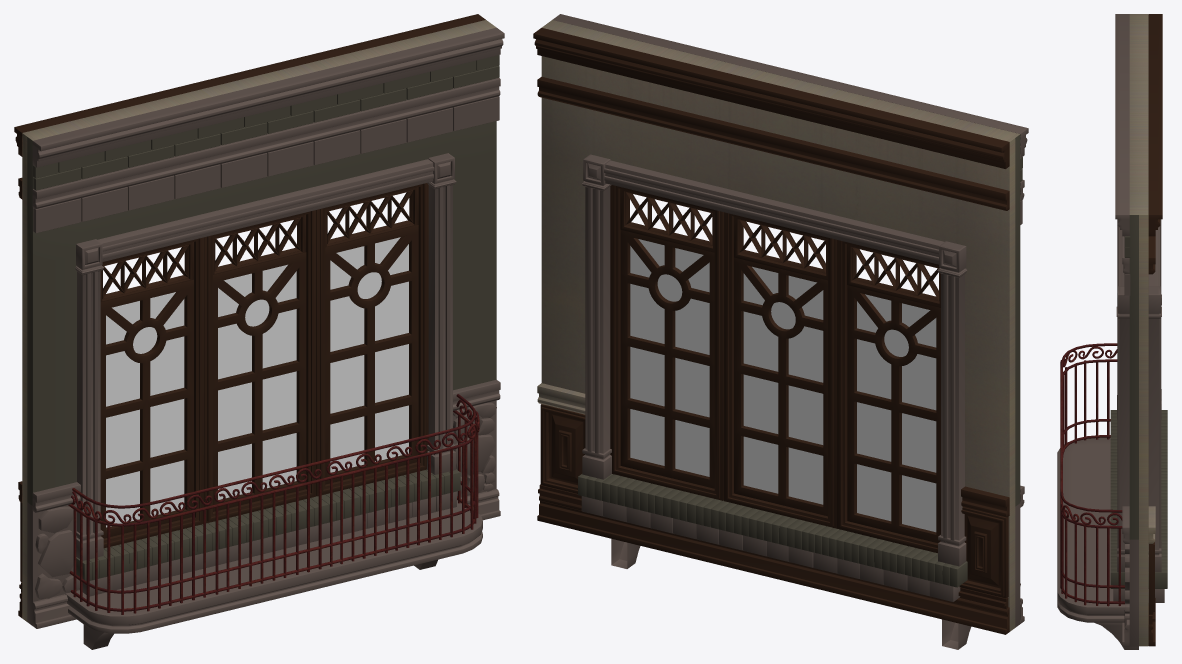
File: SK5 WINDOW 2 BALCONY.fbx
3 views of the same model, side by side, from view 1: azimuth 30°, elevation 25°; view 2: azimuth 150°, elevation 25°; view 3: azimuth 270°, elevation 25° (orthographic). The views are drawn at different scales.
Visible parts, largest first — view 1: SK5 WINDOW 2 BALCONY; view 2: SK5 WINDOW 2 BALCONY; view 3: SK5 WINDOW 2 BALCONY.
Boxes of the visible parts, x1=… form: SK5 WINDOW 2 BALCONY: x1=14, y1=14, x2=504, y2=649; SK5 WINDOW 2 BALCONY: x1=533, y1=14, x2=1028, y2=649; SK5 WINDOW 2 BALCONY: x1=1057, y1=14, x2=1167, y2=649.
Size of the model in its own units: 400 by 429 by 92.56.
